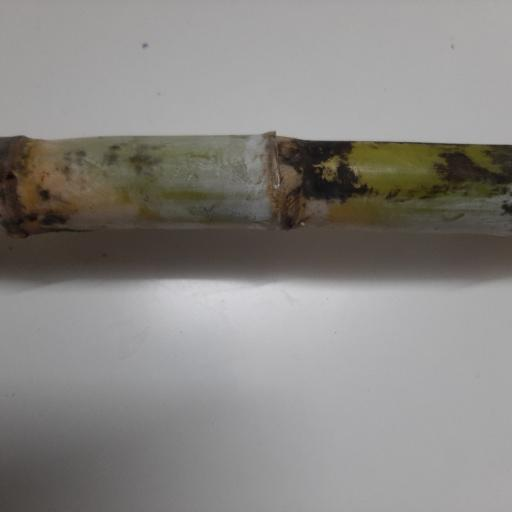Bud: (277, 139, 301, 160)
